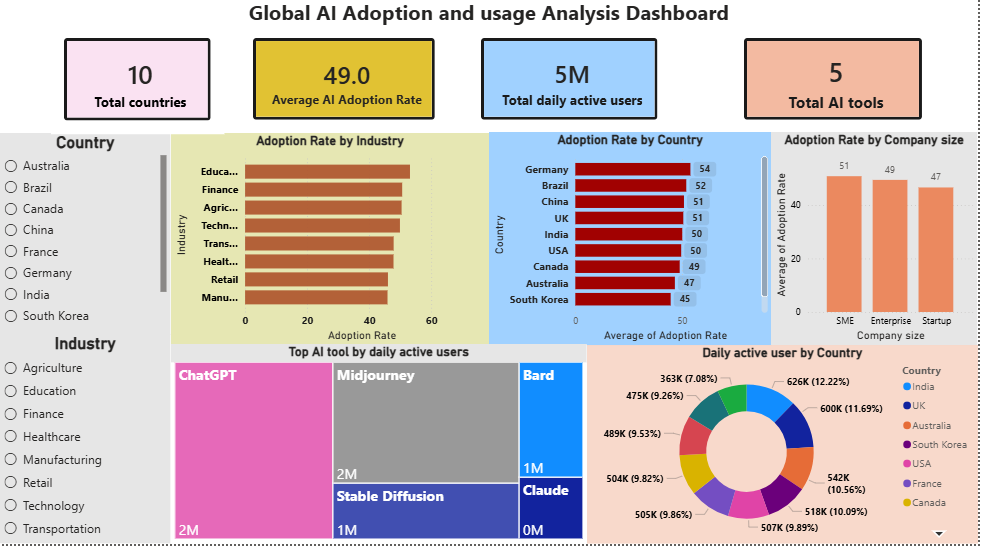

What the dashboard file says about the page in this screenshot:
{"tool":"powerbi","page":{"name":"Page 1","canvas":[1280,720],"ordinal":0},"visuals":[{"type":"cardVisual","fields":{"Data":["Sum(ai_adoption_dataset.Daily active user)"]},"box":[613.1,40.3,265.4,141.1],"z":1000},{"type":"cardVisual","fields":{"Data":["Count(ai_adoption_dataset.AI tool)"]},"box":[957.5,40.3,267.1,141.1],"z":2000},{"type":"clusteredBarChart","fields":{"Category":["ai_adoption_dataset.Industry"],"Y":["Avg(ai_adoption_dataset.Adoption Rate)"]},"box":[223.4,181.4,416.6,277.2],"z":3000},{"type":"clusteredBarChart","title":"Adoption Rate by Country","fields":{"Category":["ai_adoption_dataset.Country"],"Y":["Avg(ai_adoption_dataset.Adoption Rate)"]},"box":[640,180.7,369.8,278.6],"z":4000},{"type":"clusteredColumnChart","title":" Adoption Rate by Company size","fields":{"Category":["ai_adoption_dataset.Company size"],"Y":["Avg(ai_adoption_dataset.Adoption Rate)"]},"box":[1009.8,180.7,270.2,278.6],"z":5000},{"type":"treemap","title":"Top AI tool by daily active users","fields":{"Group":["ai_adoption_dataset.AI tool"],"Values":["Sum(ai_adoption_dataset.Daily active user)"]},"box":[223.4,458.6,544.3,260.4],"z":6000},{"type":"donutChart","title":" Daily active user by Country","fields":{"Y":["Sum(ai_adoption_dataset.Daily active user)"],"Category":["ai_adoption_dataset.Country"]},"box":[768.3,459.3,511.7,260.1],"z":7000},{"type":"textbox","box":[0,27,270,154],"z":8000},{"type":"textbox","box":[0,0,1280,53.8],"z":9000},{"type":"listSlicer","fields":{"Values":["ai_adoption_dataset.Country"]},"box":[0,181.4,223.4,263.7],"z":9001},{"type":"listSlicer","fields":{"Values":["ai_adoption_dataset.Industry"]},"box":[0,445.1,223.4,273.8],"z":9002},{"type":"cardVisual","fields":{"Data":["Avg(ai_adoption_dataset.Adoption Rate)"]},"box":[314.1,40.3,272.1,141.1],"z":9003},{"type":"cardVisual","fields":{"Data":["Count(ai_adoption_dataset.Country)"]},"box":[67.2,40.3,226.8,142.8],"z":9004}]}

Visuals, with their boxes in screenshot pixels (x1, y1, x2, y2), scaled from the page's 1280x720 canvas onto the 983x547 screenshot:
cardVisual - Sum(ai_adoption_dataset.Daily active user): <bbox>471, 31, 675, 138</bbox>
cardVisual - Count(ai_adoption_dataset.AI tool): <bbox>735, 31, 940, 138</bbox>
clusteredBarChart - ai_adoption_dataset.Industry x Avg(ai_adoption_dataset.Adoption Rate): <bbox>172, 138, 492, 348</bbox>
"Adoption Rate by Country" clusteredBarChart: <bbox>492, 137, 775, 349</bbox>
" Adoption Rate by Company size" clusteredColumnChart: <bbox>775, 137, 982, 349</bbox>
"Top AI tool by daily active users" treemap: <bbox>172, 348, 590, 546</bbox>
" Daily active user by Country" donutChart: <bbox>590, 349, 982, 546</bbox>
textbox: <bbox>0, 21, 207, 138</bbox>
textbox: <bbox>0, 0, 982, 41</bbox>
listSlicer - ai_adoption_dataset.Country: <bbox>0, 138, 172, 338</bbox>
listSlicer - ai_adoption_dataset.Industry: <bbox>0, 338, 172, 546</bbox>
cardVisual - Avg(ai_adoption_dataset.Adoption Rate): <bbox>241, 31, 450, 138</bbox>
cardVisual - Count(ai_adoption_dataset.Country): <bbox>52, 31, 226, 139</bbox>
